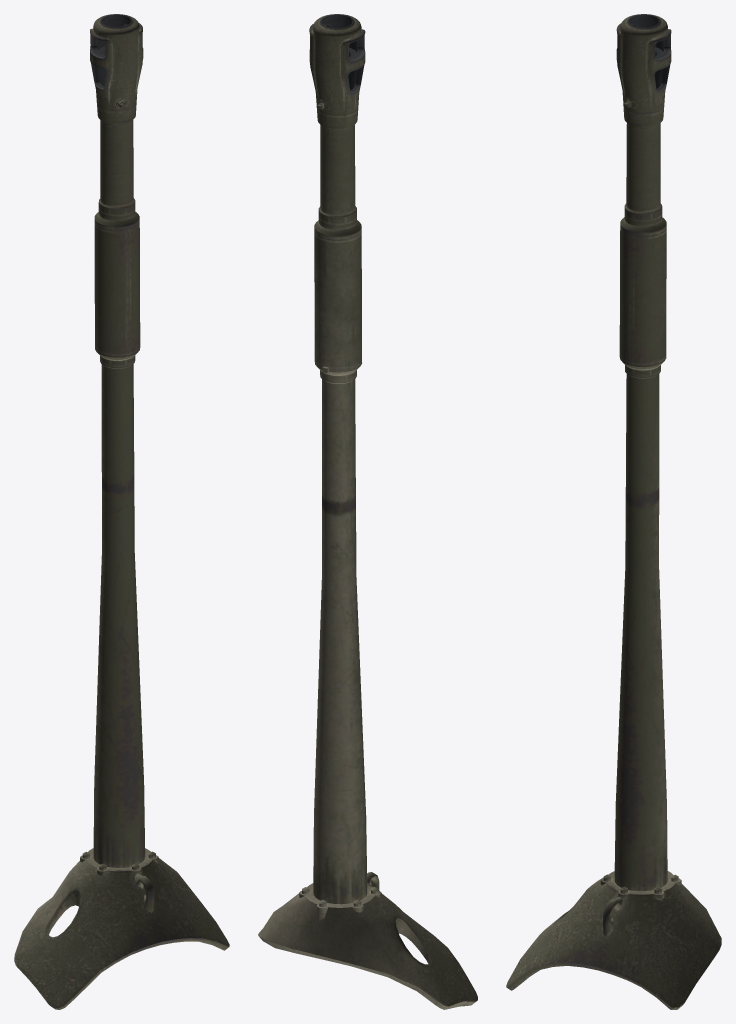
The model's file is Gun_03.glb.
3 renders of one model, left to right at view 1: azimuth 30°, elevation 25°; view 2: azimuth 150°, elevation 25°; view 3: azimuth 330°, elevation 25°, orthographic. The views are drawn at different scales.
Visible parts, largest first — view 1: set_0_group_0; view 2: set_0_group_0; view 3: set_0_group_0.
Boxes of the visible parts, box(x1,y1,x2,y2) form: set_0_group_0: box(14, 14, 229, 1009); set_0_group_0: box(258, 14, 477, 1009); set_0_group_0: box(506, 14, 721, 1009).
Size of the model in its own units: 0.9804 by 4.94 by 0.6541.
Materials: 1 (1 with a texture image).
